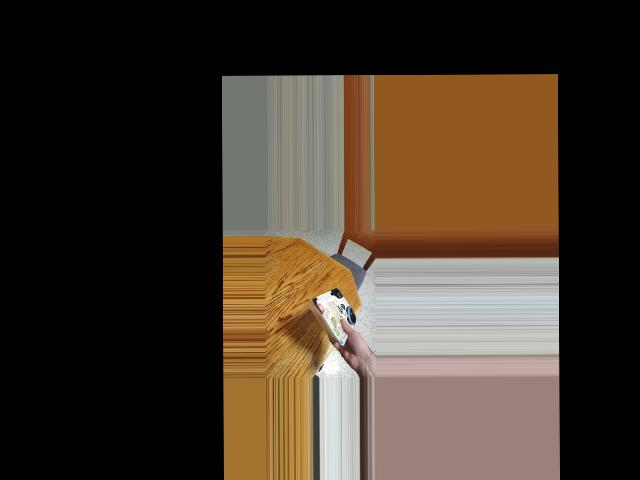cheese: (300, 284, 357, 341)
